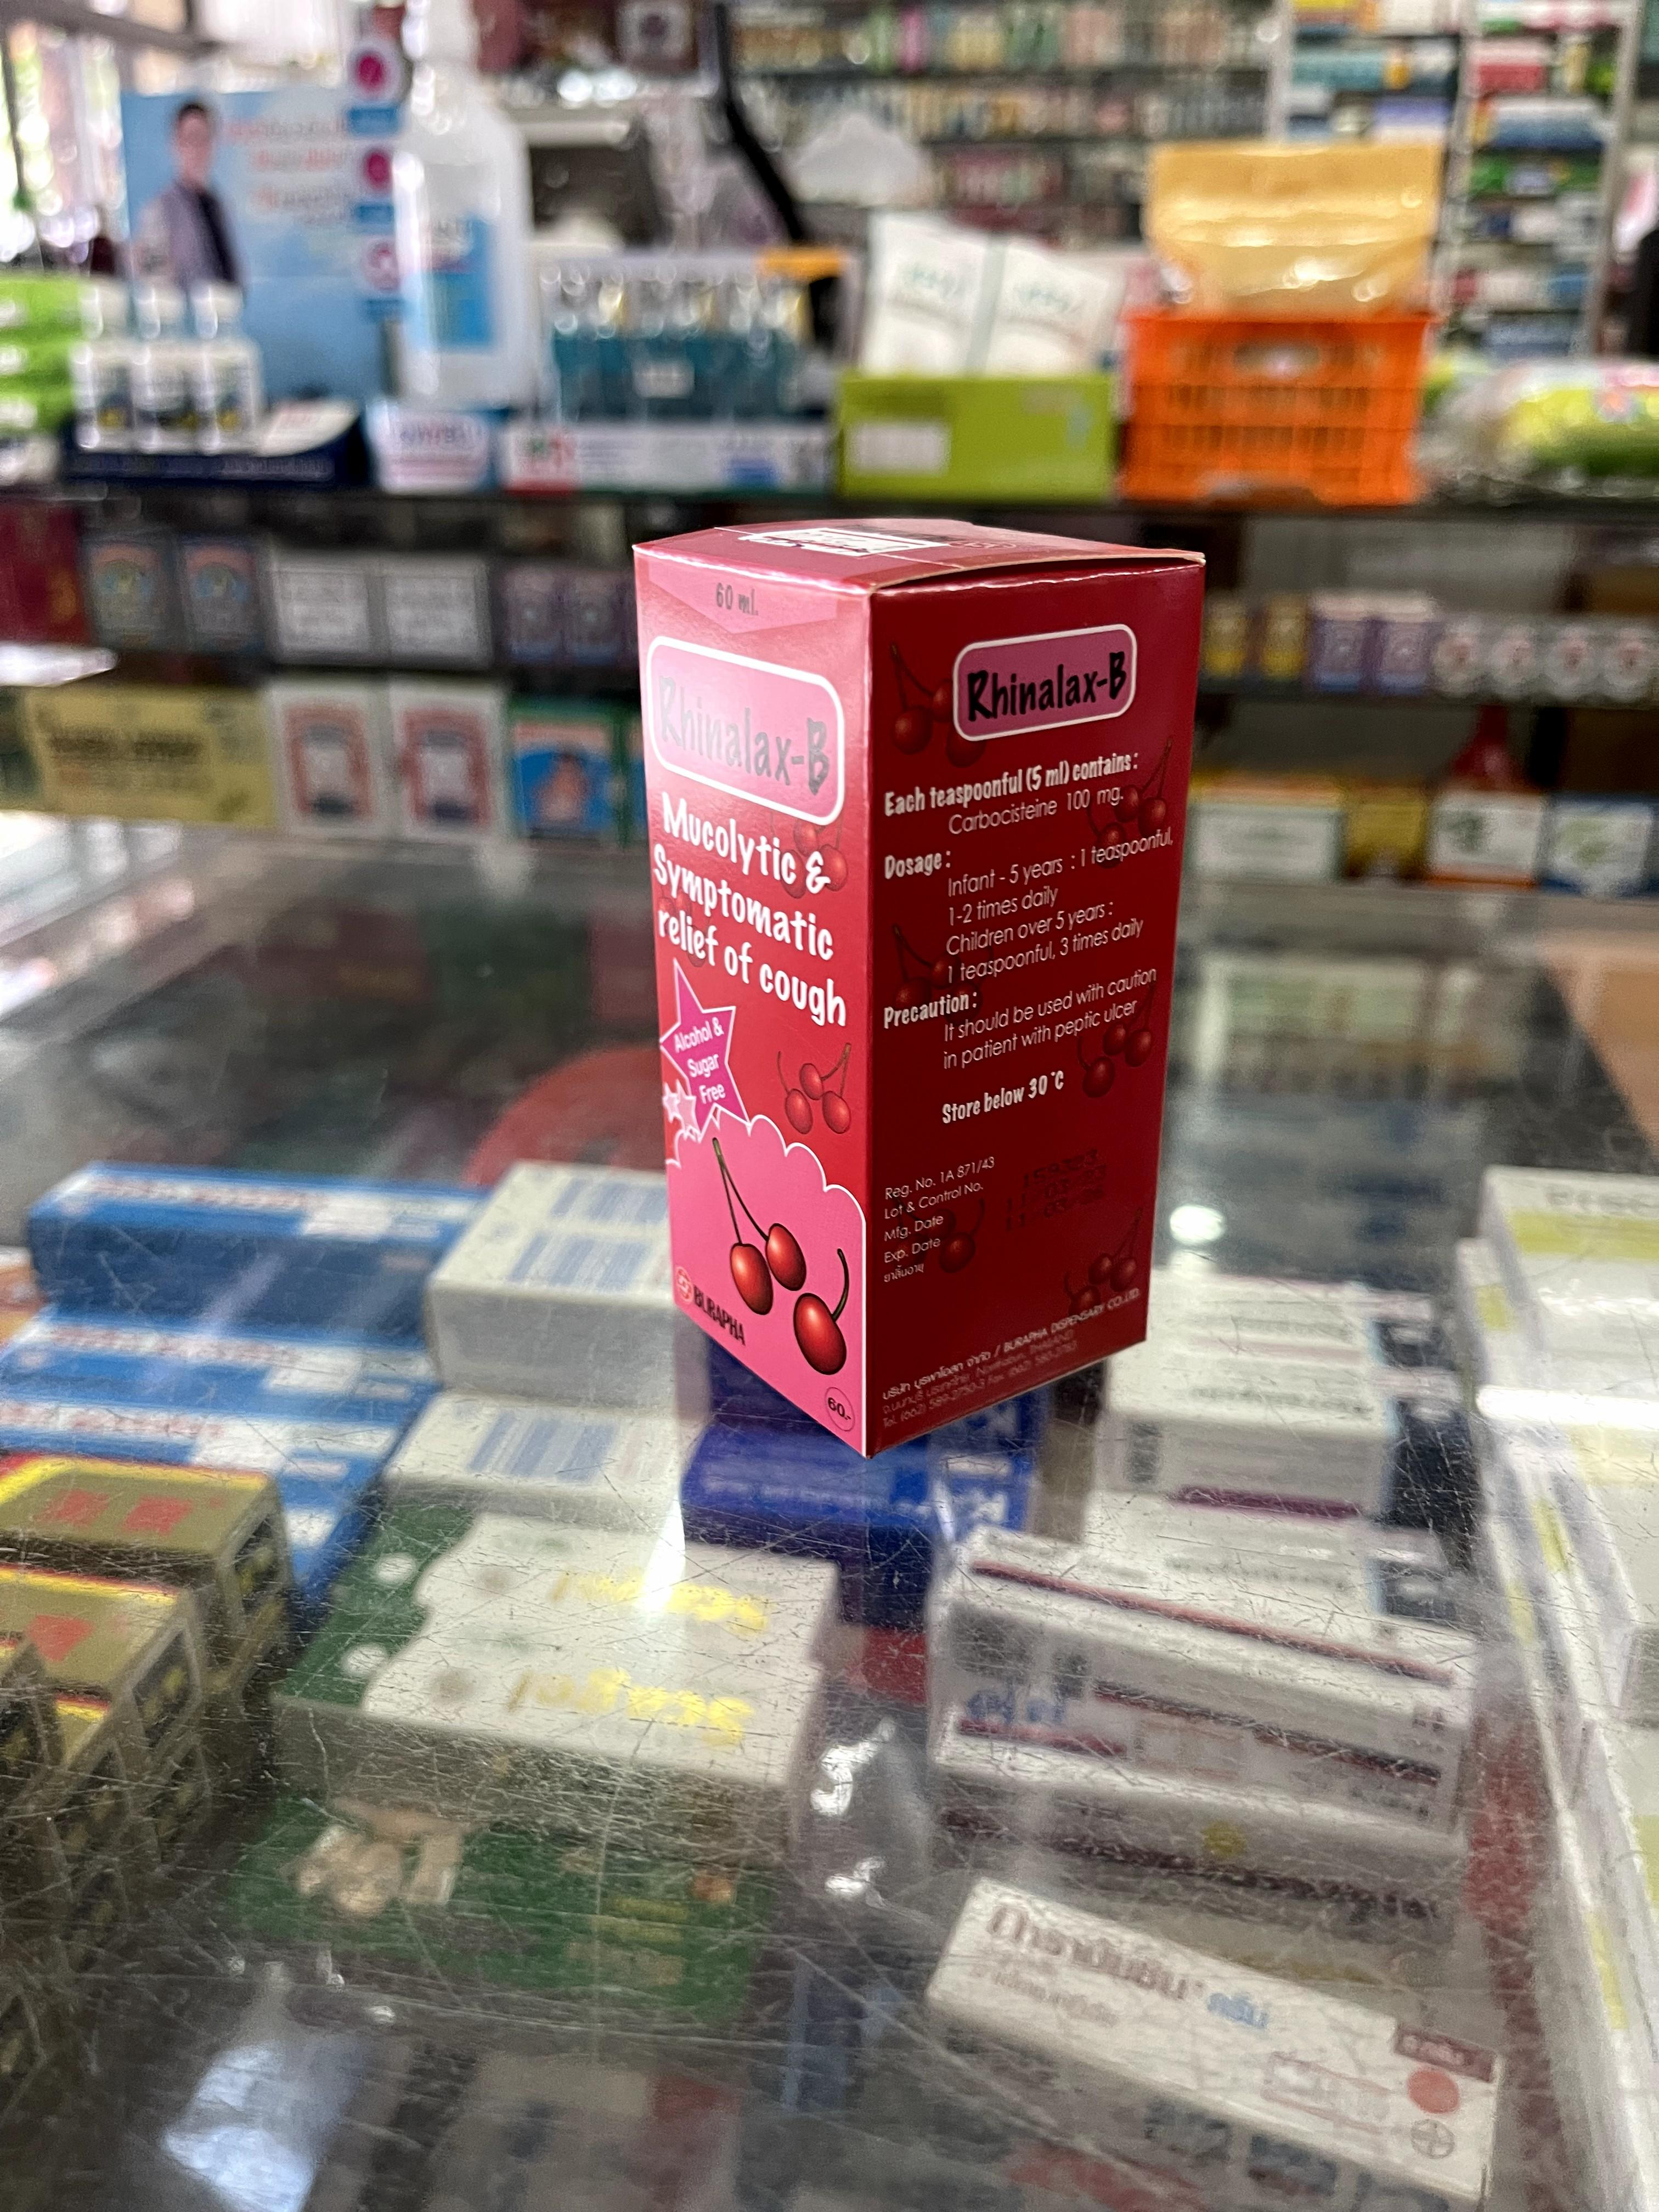Rhinalax-B: (636, 516, 1199, 1454)
